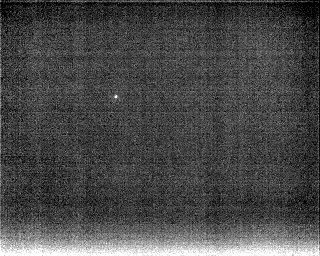BIRD: (112, 91, 121, 102)
